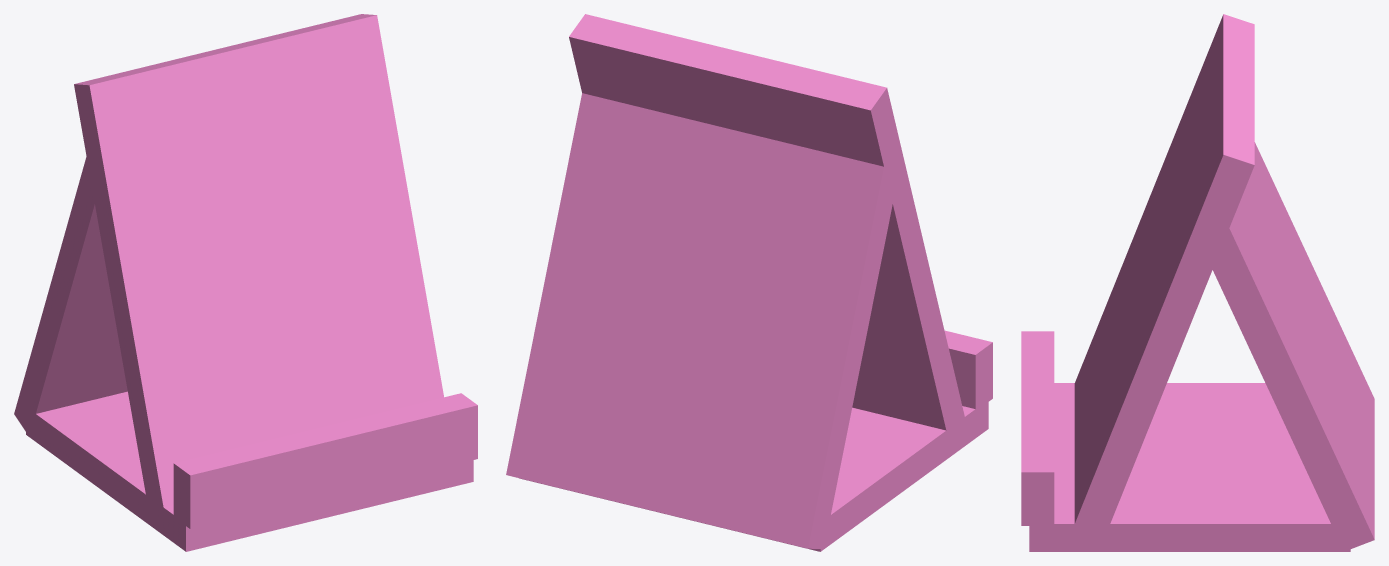
The model's file is angle-stand.glb.
3 renders of one model, left to right at view 1: azimuth 30°, elevation 25°; view 2: azimuth 150°, elevation 25°; view 3: azimuth 270°, elevation 25°, orthographic. The views are drawn at different scales.
Parts seen in each view (by area): view 1: Stand; view 2: Stand; view 3: Stand.
Part boxes in pixels (<box>): Stand: <box>14,14,477,551</box>; Stand: <box>506,14,992,551</box>; Stand: <box>1021,14,1374,551</box>.
Size of the model in its own units: 1.4 by 1.84 by 1.49.
